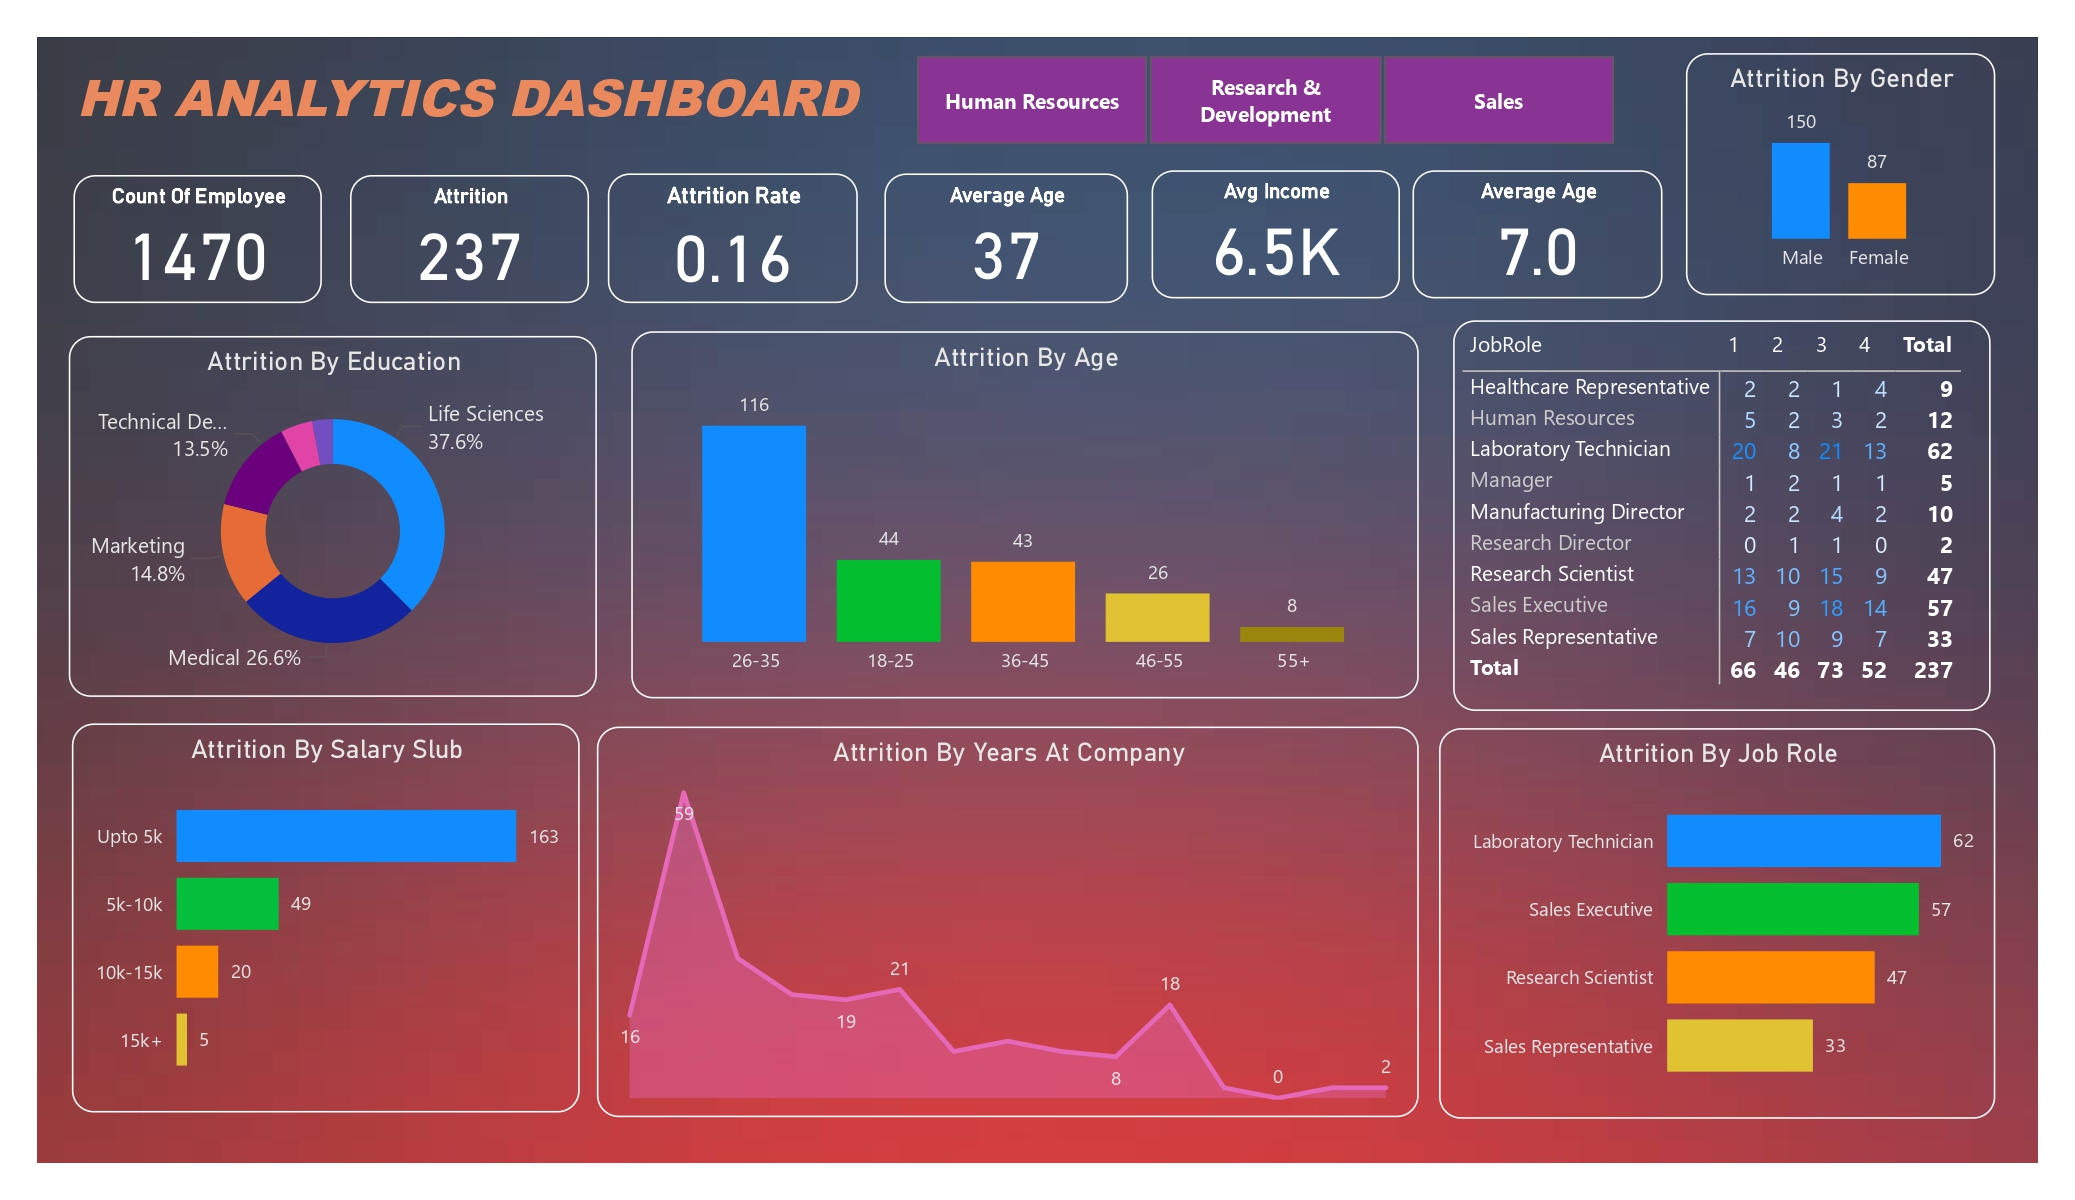

Layout of this report page (visuals, bound fields, positions):
{"tool":"powerbi","page":{"name":"Page 1","canvas":[1280,720],"ordinal":0},"visuals":[{"type":"card","title":"Count Of Employee","fields":{"Values":["CountNonNull(HR_Analytics.EmpID)"]},"box":[23.3,88.3,158.3,81.7],"z":0},{"type":"card","title":"Attrition","fields":{"Values":["Sum(HR_Analytics.AttritionCount)"]},"box":[200,88.3,153.3,81.7],"z":1000},{"type":"card","title":"Attrition Rate","fields":{"Values":["HR_Analytics.AttritionRate"]},"box":[365,86.7,160,83.3],"z":2000},{"type":"card","title":"Average Age","fields":{"Values":["Avg(HR_Analytics.Age)"]},"box":[541.7,86.7,156.7,83.3],"z":3000},{"type":"card","title":"Avg Income","fields":{"Values":["Avg(HR_Analytics.MonthlyIncome)"]},"box":[713.3,85,158.3,81.7],"z":4000},{"type":"card","title":"Average Age","fields":{"Values":["Avg(HR_Analytics.YearsAtCompany)"]},"box":[880,85,160,81.7],"z":5000},{"type":"donutChart","title":"Attrition By Education","fields":{"Category":["HR_Analytics.EducationField"],"Y":["Sum(HR_Analytics.AttritionCount)"]},"box":[20.3,190.6,337.5,231.2],"z":6000},{"type":"columnChart","title":"Attrition By Age","fields":{"Category":["HR_Analytics.AgeGroup"],"Y":["Sum(HR_Analytics.AttritionCount)"]},"box":[379.7,187.5,504.7,235.9],"z":7000},{"type":"pivotTable","fields":{"Rows":["HR_Analytics.JobRole"],"Columns":["HR_Analytics.JobSatisfaction"],"Values":["Sum(HR_Analytics.AttritionCount)"]},"box":[906.2,181.2,343.8,250],"z":8000},{"type":"barChart","title":"Attrition By Salary Slub","fields":{"Category":["HR_Analytics.SalarySlab"],"Y":["Sum(HR_Analytics.AttritionCount)"]},"box":[21.9,439.1,325,248.4],"z":9000},{"type":"barChart","title":"Attrition By Job Role","fields":{"Category":["HR_Analytics.JobRole"],"Y":["Sum(HR_Analytics.AttritionCount)"]},"box":[896.9,442.2,356.2,250],"z":10000},{"type":"areaChart","title":"Attrition By Years At Company","fields":{"Category":["HR_Analytics.YearsAtCompany"],"Y":["Sum(HR_Analytics.AttritionCount)"]},"box":[357.8,440.6,526.6,250],"z":11000},{"type":"columnChart","title":"Attrition By Gender","fields":{"Category":["HR_Analytics.Gender"],"Y":["Sum(HR_Analytics.AttritionCount)"]},"box":[1055.2,9.6,197.6,155.1],"z":12000},{"type":"slicer","fields":{"Values":["HR_Analytics.Department"]},"box":[536.7,5,496.7,70],"z":13000},{"type":"textbox","box":[20,10,528.3,65],"z":14000}]}

Visuals, with their boxes in screenshot pixels (x1, y1, x2, y2):
"Count Of Employee" card: [left=33, top=163, right=296, bottom=298]
"Attrition" card: [left=326, top=163, right=580, bottom=298]
"Attrition Rate" card: [left=600, top=160, right=865, bottom=298]
"Average Age" card: [left=892, top=160, right=1152, bottom=298]
"Avg Income" card: [left=1177, top=157, right=1439, bottom=293]
"Average Age" card: [left=1453, top=157, right=1718, bottom=293]
"Attrition By Education" donutChart: [left=28, top=332, right=588, bottom=715]
"Attrition By Age" columnChart: [left=624, top=327, right=1460, bottom=718]
pivotTable - HR_Analytics.JobRole x HR_Analytics.JobSatisfaction: [left=1497, top=317, right=2066, bottom=731]
"Attrition By Salary Slub" barChart: [left=31, top=744, right=570, bottom=1156]
"Attrition By Job Role" barChart: [left=1481, top=749, right=2072, bottom=1163]
"Attrition By Years At Company" areaChart: [left=588, top=746, right=1460, bottom=1161]
"Attrition By Gender" columnChart: [left=1744, top=32, right=2071, bottom=289]
slicer - HR_Analytics.Department: [left=884, top=24, right=1707, bottom=141]
textbox: [left=28, top=33, right=903, bottom=141]
